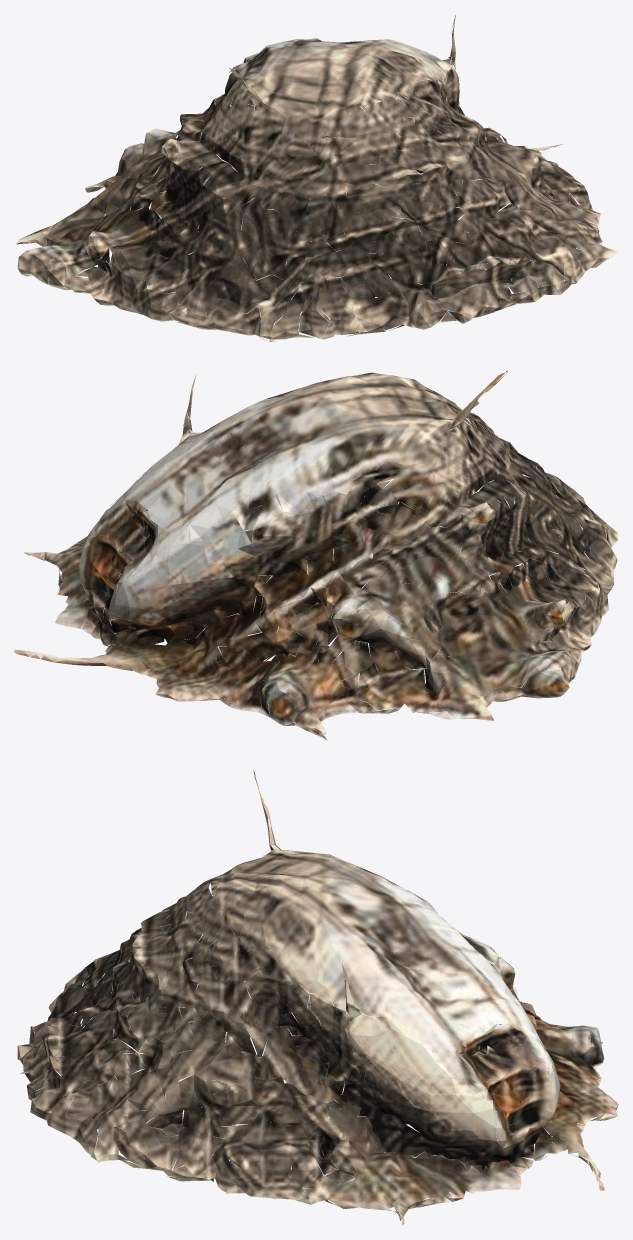
File: debris.glb
3 renders of one model, top to bottom at view 1: azimuth 30°, elevation 25°; view 2: azimuth 150°, elevation 25°; view 3: azimuth 270°, elevation 25°, orthographic. The views are drawn at different scales.
Parts seen in each view (by area): view 1: world; view 2: world; view 3: world.
Part boxes in pixels (x1,y1,x2,y2): world: (16, 15, 618, 341); world: (14, 371, 617, 740); world: (17, 771, 618, 1225).
Bounding box in the file's own units: 0.901 × 0.3944 × 0.8112.
Materials: 1 (1 with a texture image).
